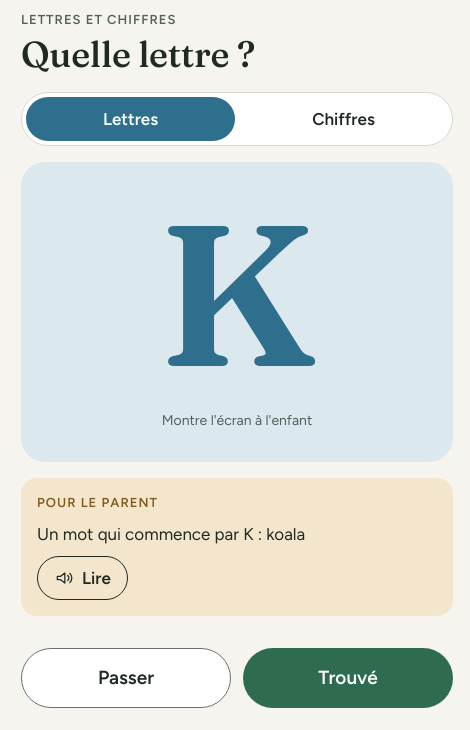
Scenario: en partie › dit « Bravo ! » au Trouvé, rien sur Passer
The width and height of the screenshot is (470, 730).
(page scrolled)
Click the button "Passer": [126, 678] box [21,648,231,708]
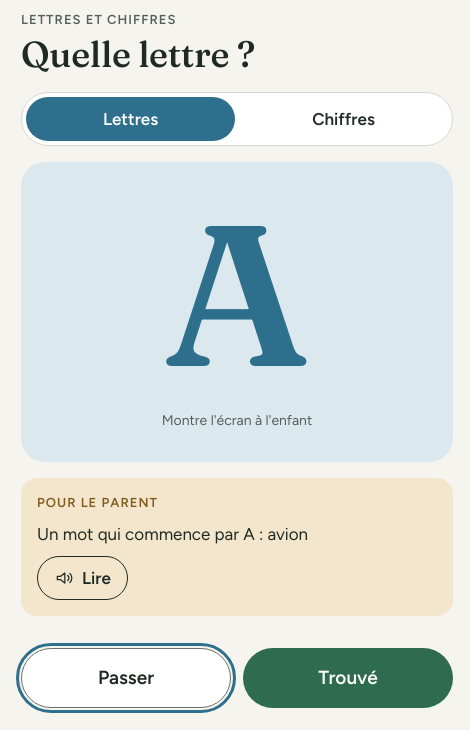
Click the button "Trouvé": [348, 678] box [243,648,453,708]
(page scrolled)
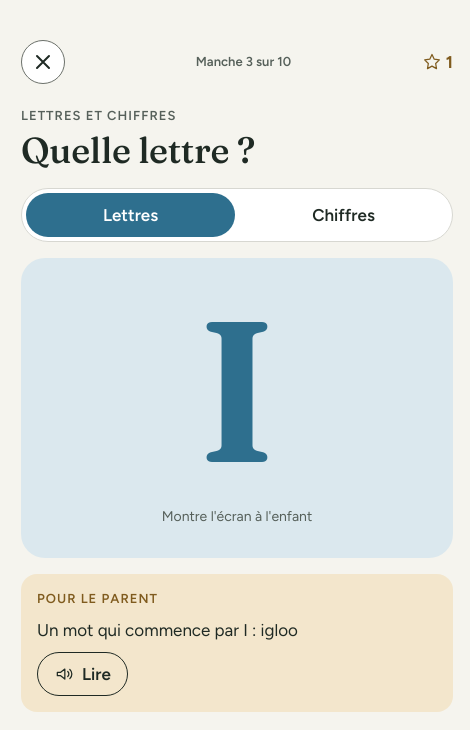
Expected: the text "Manche 3 sur 10" is shown, [196,53,291,71]
